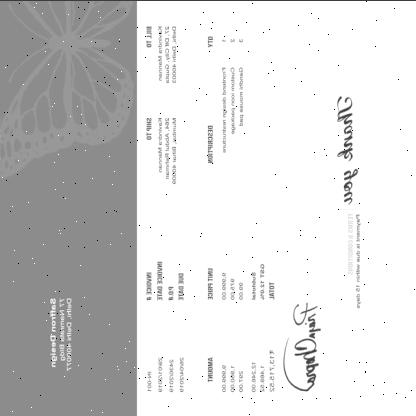Paragraph: (334, 92, 364, 310), (144, 258, 187, 396), (250, 261, 278, 395), (143, 113, 179, 185), (47, 293, 75, 373), (144, 21, 178, 86)
Table: (202, 25, 248, 394)
